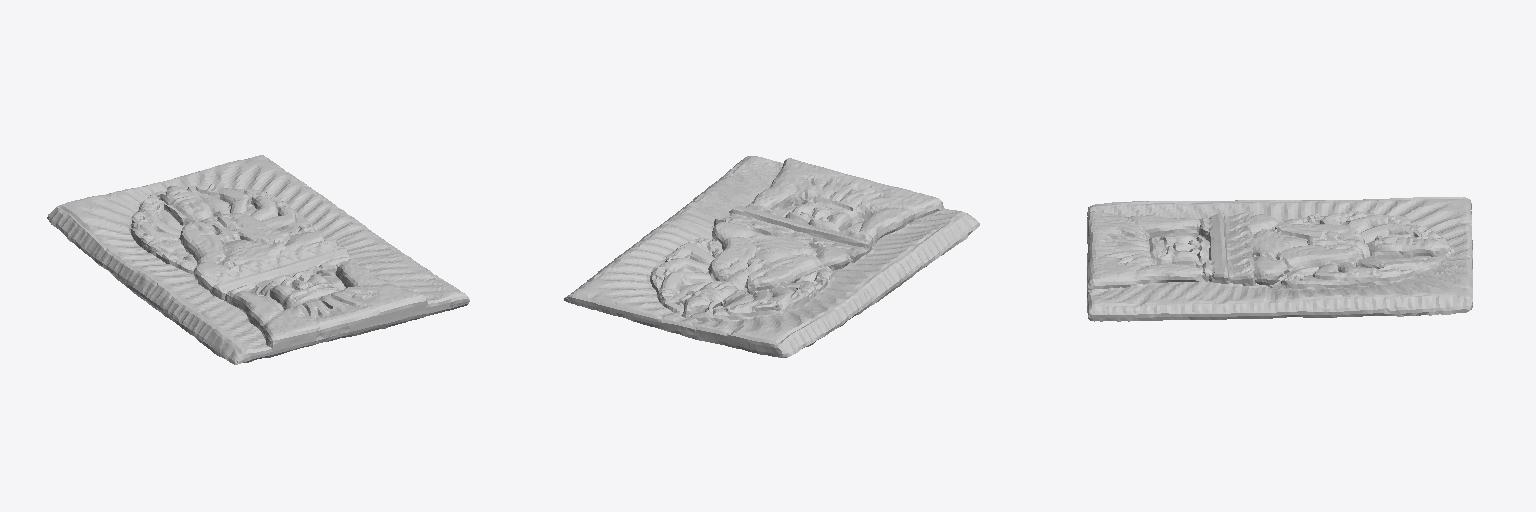
The model's file is Hojda9.obj.
3 views of the same model, side by side, from view 1: azimuth 30°, elevation 25°; view 2: azimuth 150°, elevation 25°; view 3: azimuth 270°, elevation 25° (orthographic).
Parts seen in each view (by area): view 1: Hojda9_lowpoly; view 2: Hojda9_lowpoly; view 3: Hojda9_lowpoly.
Part boxes in pixels (bbox=[...]): Hojda9_lowpoly: bbox=[47, 155, 469, 364]; Hojda9_lowpoly: bbox=[564, 156, 979, 357]; Hojda9_lowpoly: bbox=[1087, 197, 1472, 321].
Bounding box in the file's own units: 0.2781 × 0.0307 × 0.3931.